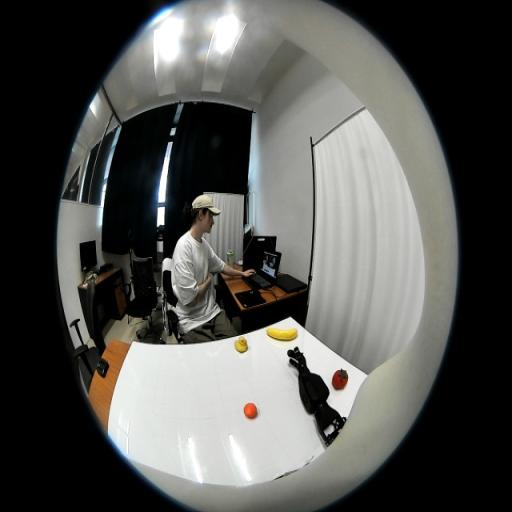Banana: (266, 327, 298, 341)
Mushroom: (234, 336, 248, 353)
Orange: (244, 402, 258, 419)
RightHand: (298, 359, 306, 371)
Tomato: (332, 370, 348, 390)
